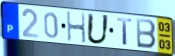0: (42, 11, 60, 39)
2: (21, 7, 40, 40)
B: (135, 17, 158, 51)
H: (65, 11, 87, 45)
T: (116, 17, 134, 47)
U: (85, 12, 111, 46)
